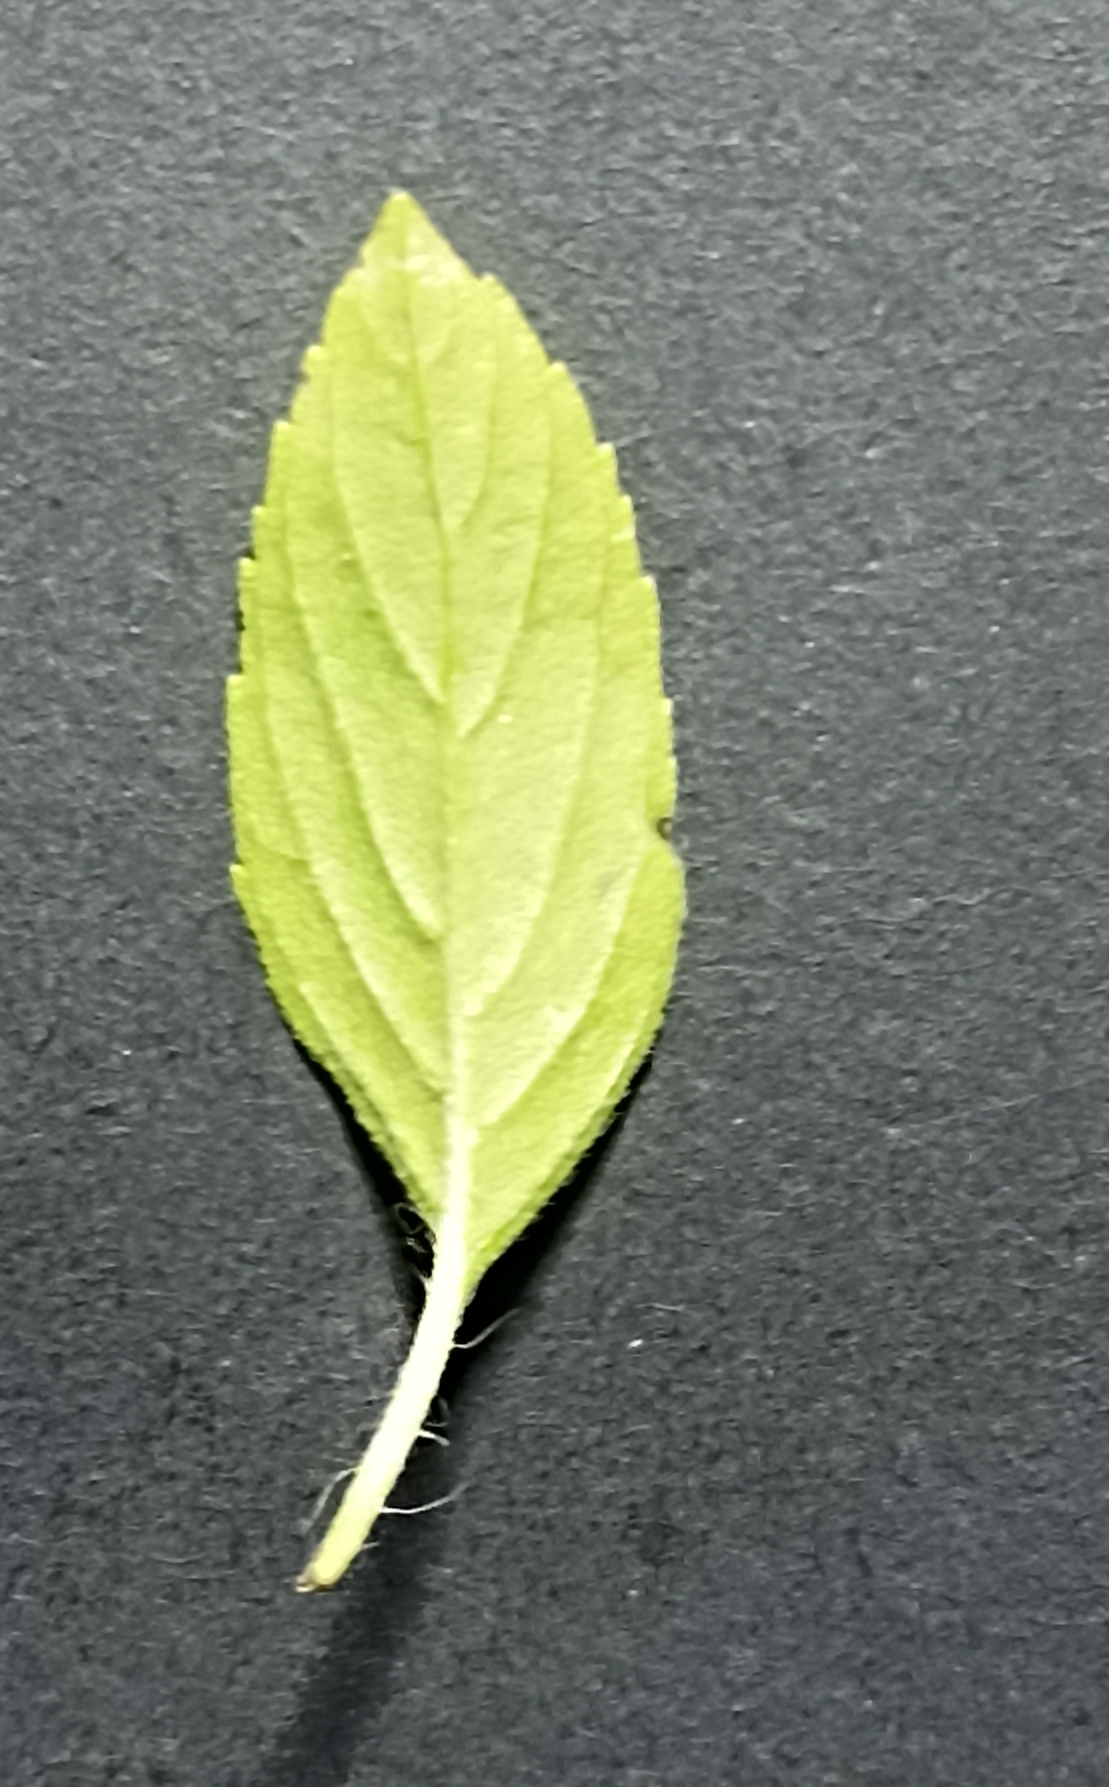Healthy: (204, 176, 709, 1249)
